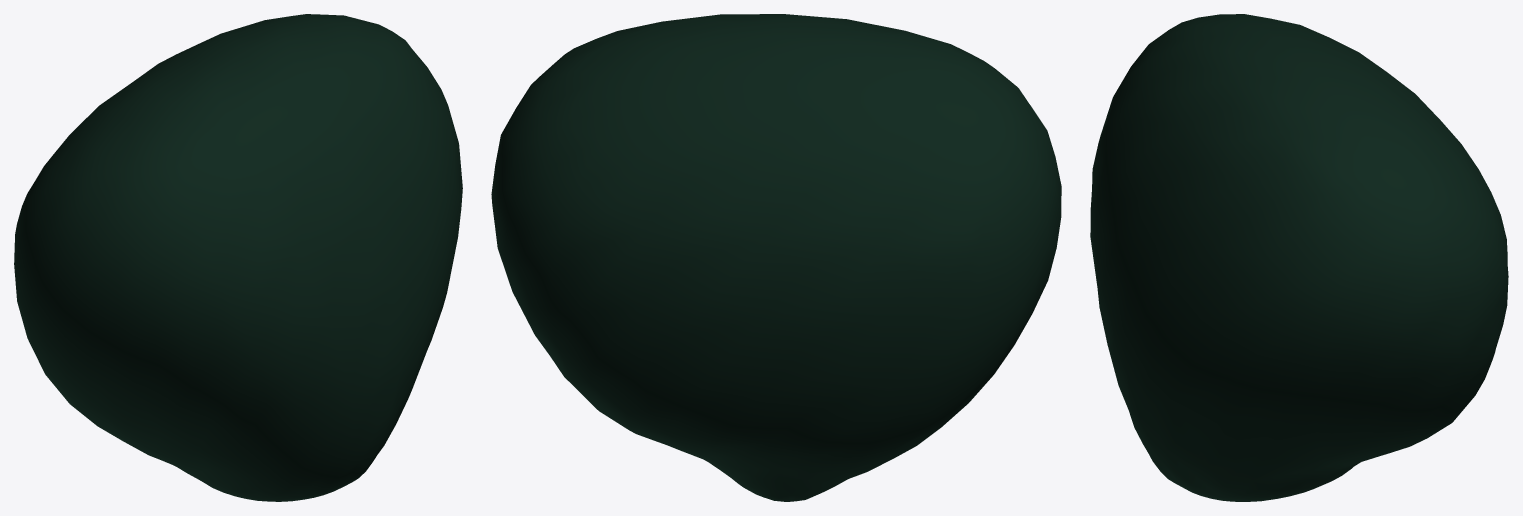
3 views of the same model, side by side, from view 1: azimuth 30°, elevation 25°; view 2: azimuth 150°, elevation 25°; view 3: azimuth 270°, elevation 25° (orthographic). The views are drawn at different scales.
Visible parts, largest first — view 1: 514; view 2: 514; view 3: 514.
Boxes of the visible parts, x1,y1,x2,y2 form: 514: (14,14,462,501); 514: (491,14,1061,501); 514: (1090,14,1508,501).
Size of the model in its own units: 9.12 by 7.28 by 8.33.
